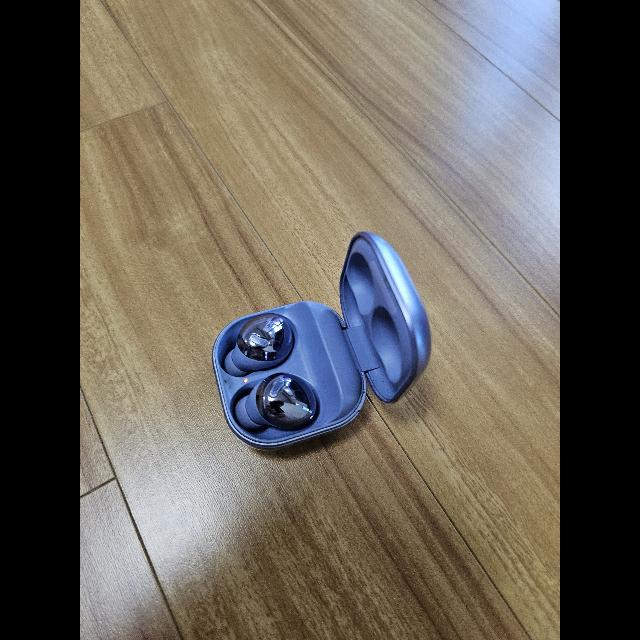buds-pro: (208, 229, 432, 457)
